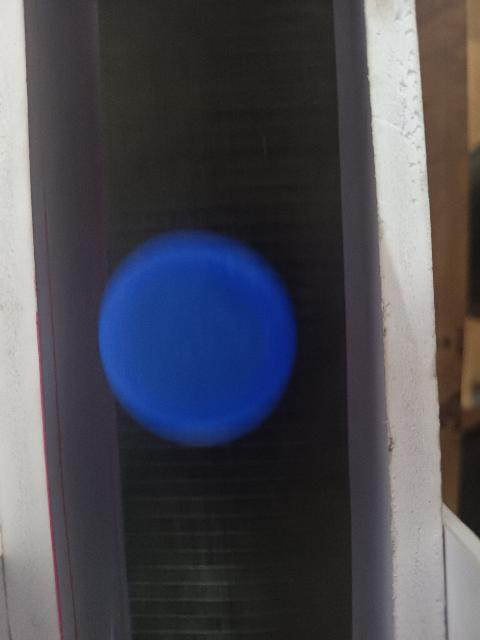bottlecap: (93, 226, 306, 452)
